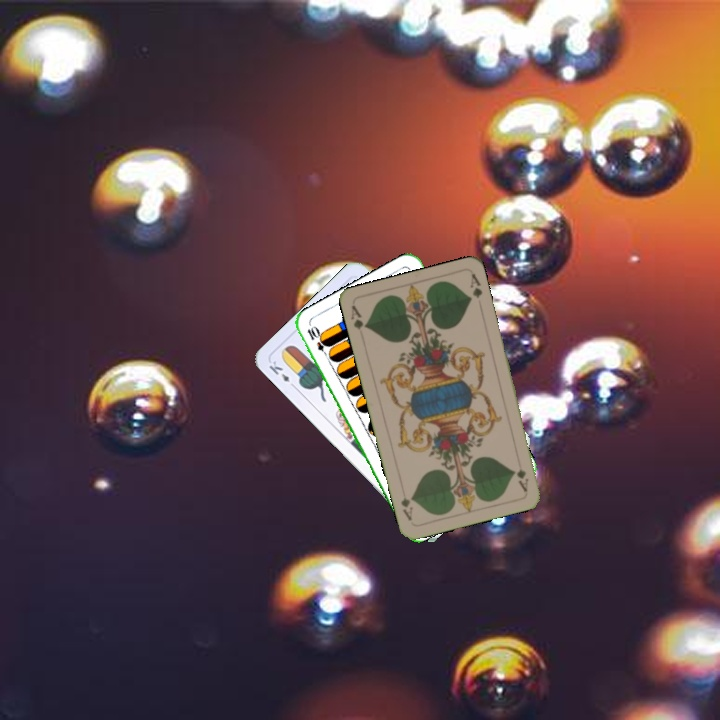E10: (303, 322, 332, 361)
EK: (265, 356, 299, 391)
GA: (347, 302, 370, 332), (513, 464, 531, 494)
